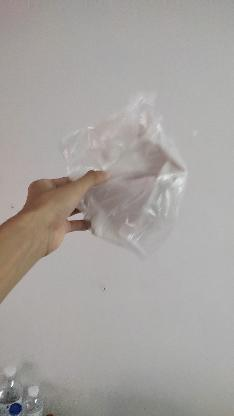Plastic Bag: (53, 88, 196, 260)
